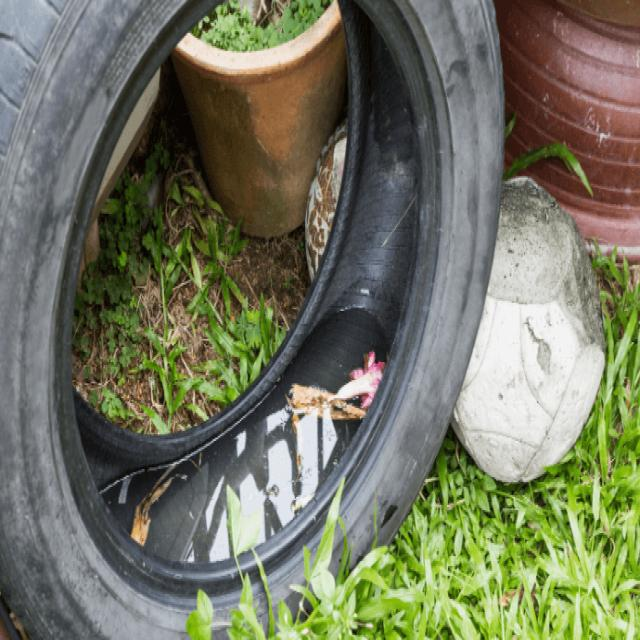Breeding Place: (82, 255, 417, 586)
